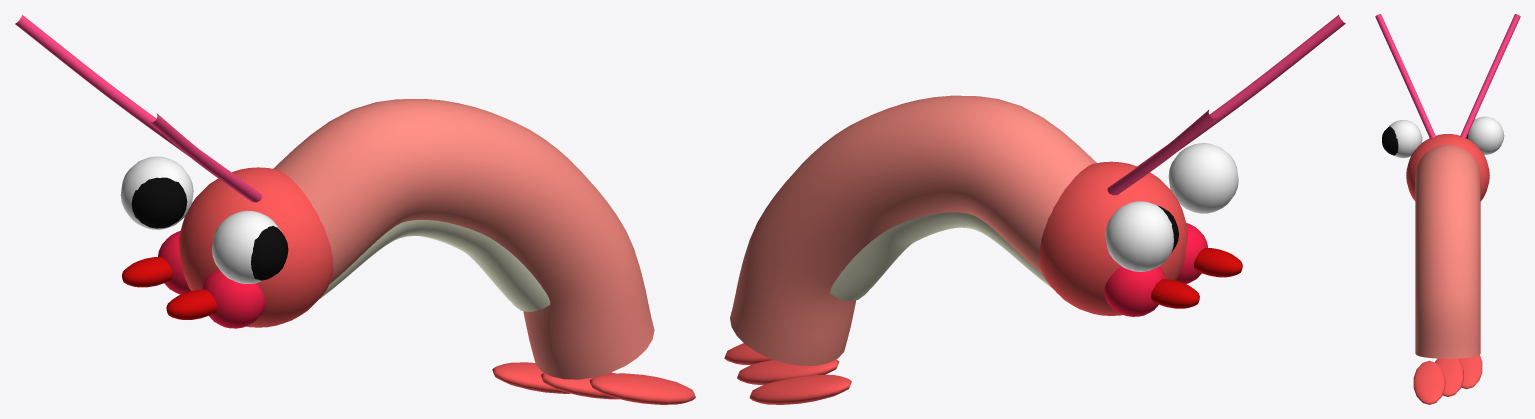
The model's file is udang.glb.
3 renders of one model, left to right at view 1: azimuth 30°, elevation 25°; view 2: azimuth 150°, elevation 25°; view 3: azimuth 270°, elevation 25°, orthographic. The views are drawn at different scales.
Size of the model in its own units: 1.54 by 1.15 by 0.6258.
